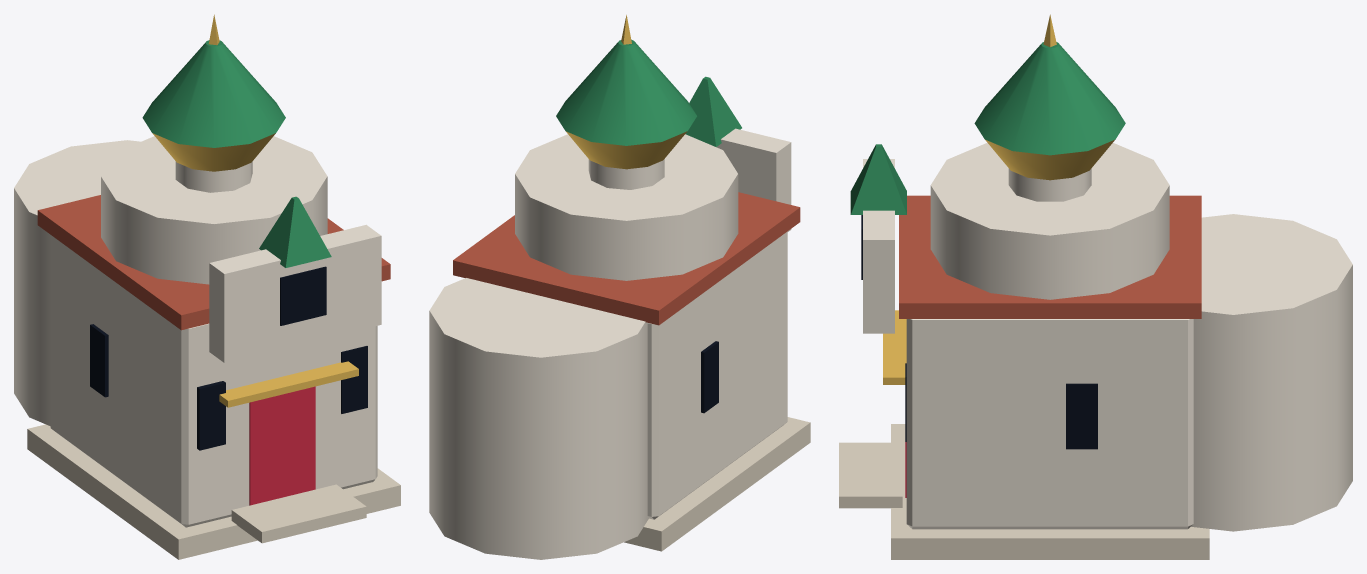
Rendered from bld_chapel.glb.
3 views of the same model, side by side, from view 1: azimuth 30°, elevation 25°; view 2: azimuth 150°, elevation 25°; view 3: azimuth 270°, elevation 25° (orthographic). The views are drawn at different scales.
Visible parts, largest first — view 1: bld_chapel; view 2: bld_chapel; view 3: bld_chapel.
Part boxes in pixels (x1=…): bld_chapel: x1=14, y1=14, x2=400, y2=559; bld_chapel: x1=429, y1=15, x2=810, y2=559; bld_chapel: x1=839, y1=14, x2=1352, y2=559.
Size of the model in its own units: 3.4 by 6.77 by 6.45.
1 material, 1 textured.
